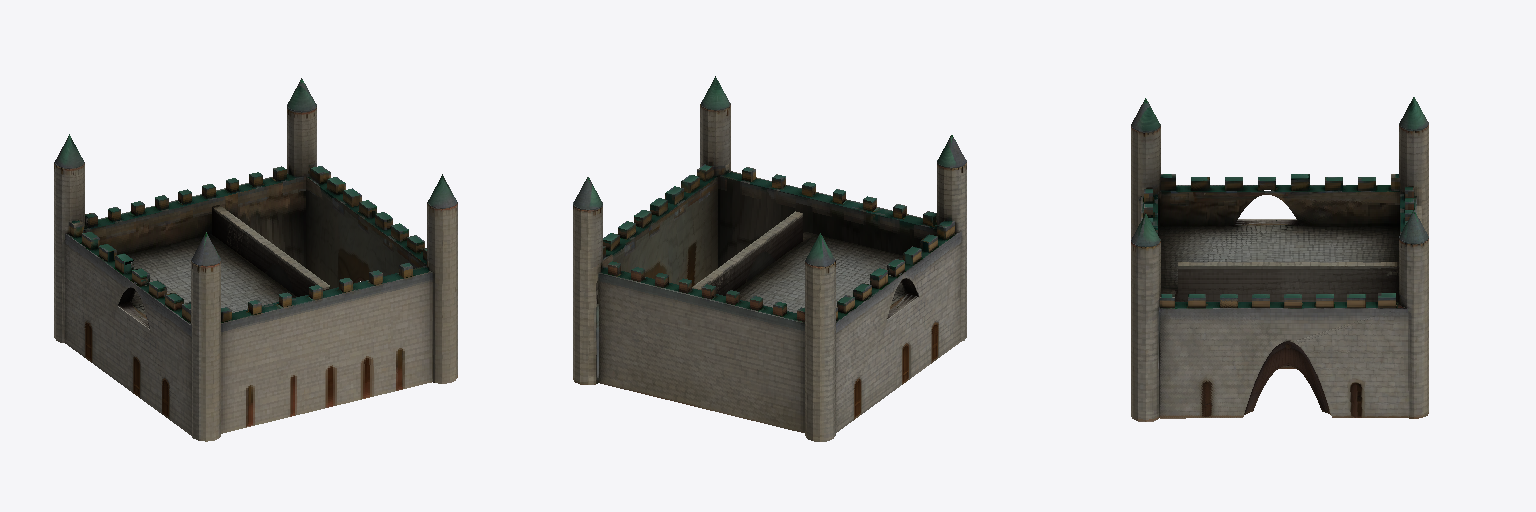
3 views of the same model, side by side, from view 1: azimuth 30°, elevation 25°; view 2: azimuth 150°, elevation 25°; view 3: azimuth 270°, elevation 25° (orthographic).
Parts seen in each view (by area): view 1: model; view 2: model; view 3: model.
Boxes of the visible parts, box(x1,y1,x2,y2) form: model: box(54, 78, 457, 441); model: box(573, 76, 966, 441); model: box(1131, 97, 1428, 421).
Size of the model in its own units: 2 by 1.47 by 1.95.
Materials: 1 (1 with a texture image).